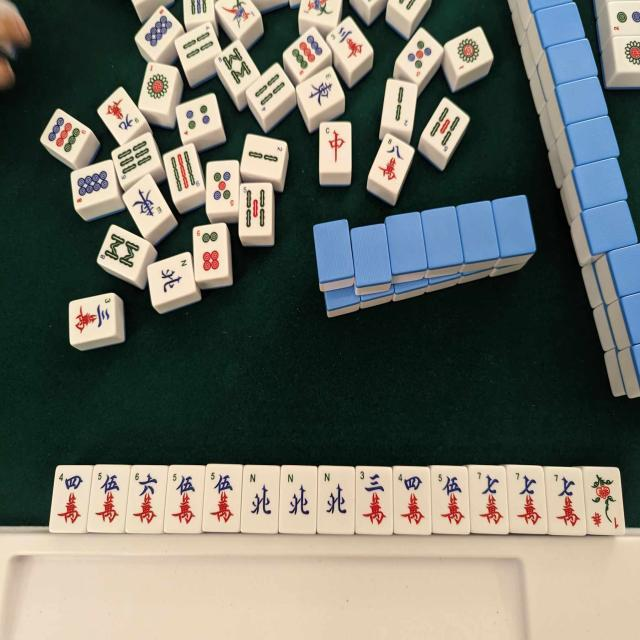bs1: (586, 470, 620, 534)
hwn: (321, 468, 354, 530), (282, 469, 314, 531), (243, 467, 274, 530)
sc3: (357, 468, 390, 532)
sc4: (394, 468, 428, 534), (56, 468, 84, 529)
sc5: (434, 468, 466, 532), (207, 467, 239, 527), (169, 468, 199, 530), (94, 469, 124, 530)
sc6: (132, 469, 160, 530)
sc7: (510, 468, 544, 532), (472, 468, 506, 532), (547, 470, 582, 532)
